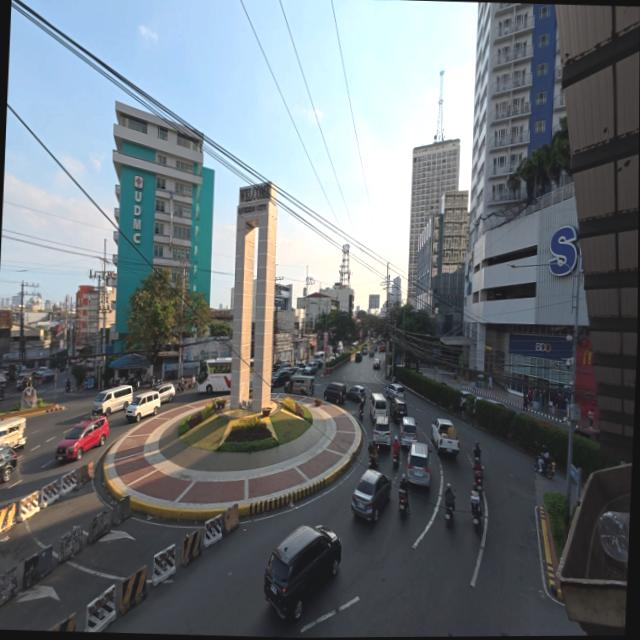Jeepneys: (0, 417, 26, 448), (285, 376, 314, 396)
bus: (198, 357, 231, 394)
car: (265, 525, 341, 620), (56, 415, 109, 461), (351, 470, 392, 522), (407, 442, 431, 486), (0, 446, 17, 482), (373, 416, 392, 448), (400, 417, 418, 447), (324, 382, 347, 404), (271, 368, 292, 388), (390, 396, 407, 419), (157, 384, 175, 404), (386, 382, 405, 400), (348, 385, 366, 401), (460, 391, 475, 410), (16, 374, 33, 389), (304, 362, 318, 375), (36, 367, 49, 376), (310, 360, 324, 368), (272, 361, 282, 372), (292, 367, 305, 375), (280, 361, 292, 368), (378, 341, 385, 352), (373, 359, 380, 369), (355, 351, 361, 361), (350, 341, 357, 348), (361, 347, 367, 354)
motorcycle: (471, 491, 482, 530), (445, 492, 454, 526), (543, 459, 555, 479), (444, 503, 453, 526), (474, 469, 483, 491), (399, 490, 406, 518), (369, 450, 379, 467), (393, 452, 400, 468), (176, 381, 185, 392), (188, 378, 196, 389), (359, 407, 363, 419), (66, 382, 70, 392)
trucks: (432, 419, 459, 455), (368, 343, 374, 356)
vans: (91, 383, 133, 416), (125, 389, 161, 423), (370, 393, 387, 422), (313, 352, 325, 362)
